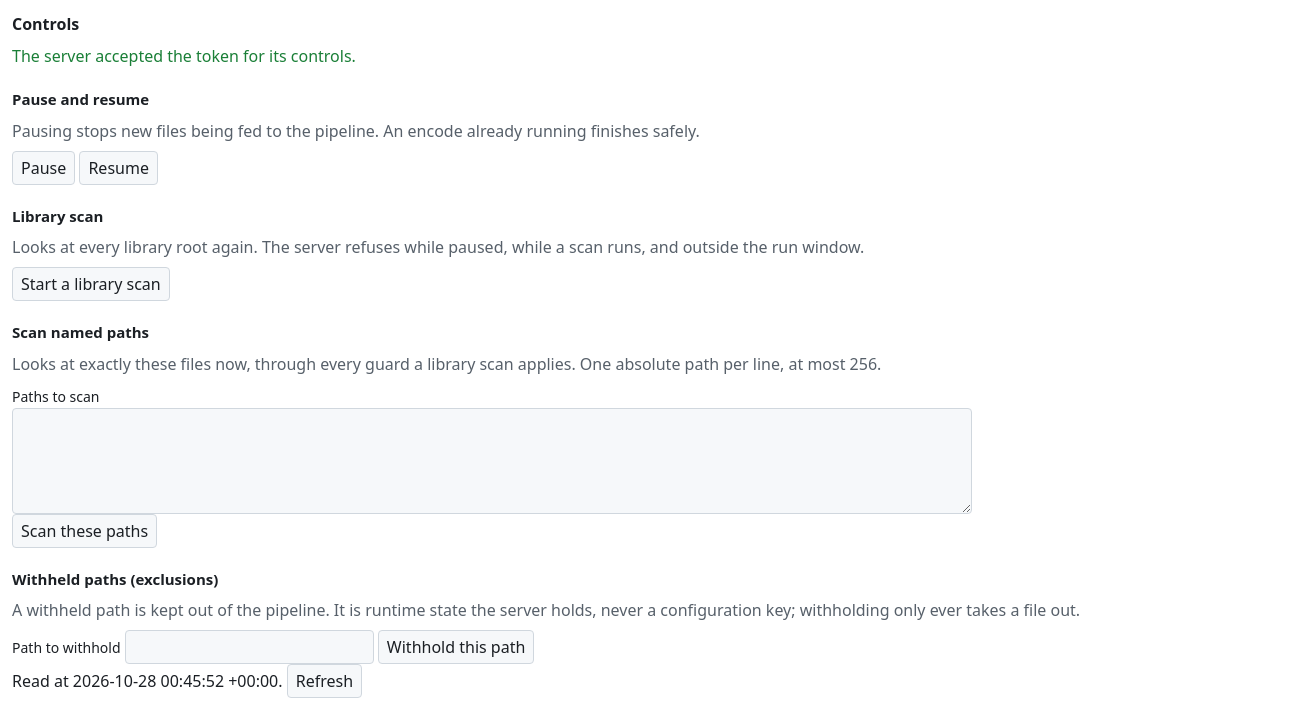
controls › controls: a 403 on a control says the controls are off on this server
The width and height of the screenshot is (1292, 708).
Expected: the text "The server accepted the token for its controls." is shown, [12,45,356,67]
What coordinates should you click on to do the following:
click the button "Resume"
I would click on:
 (119, 168)
Its box is [79,150,158,184].
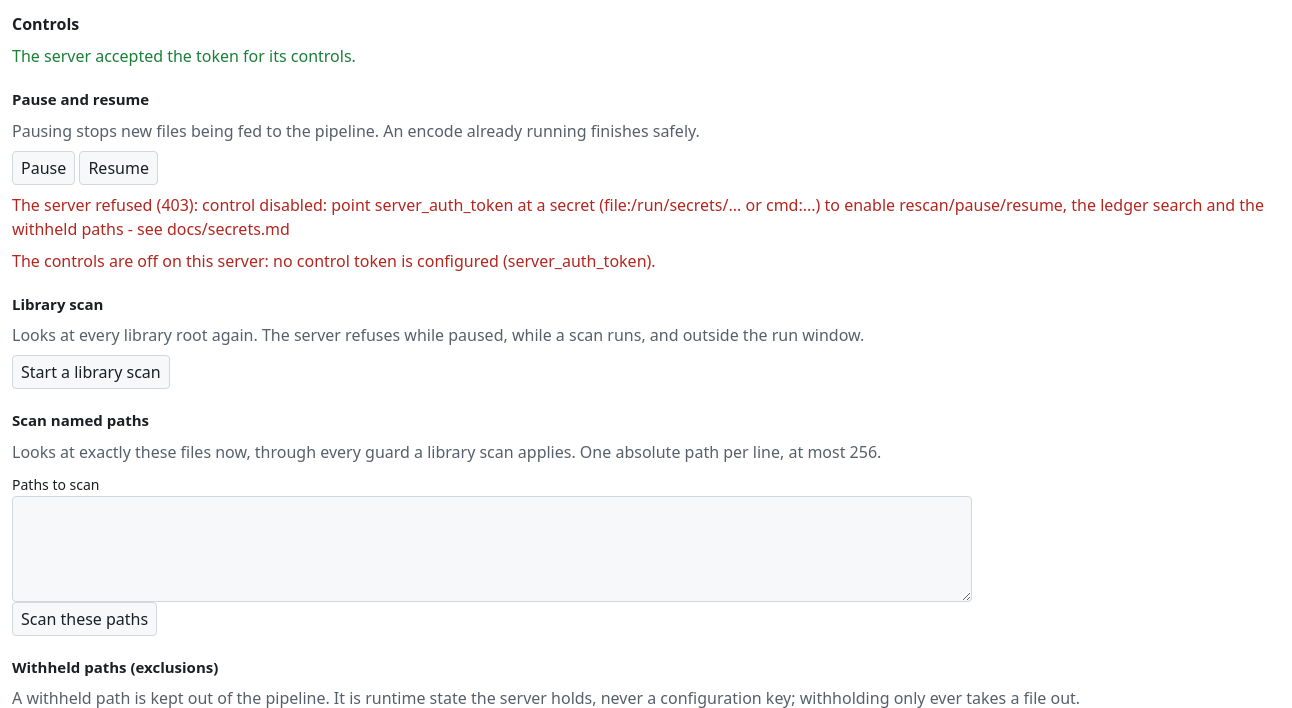
Expected: the 2nd message shows "no control token is configured (server_auth_token)", [12,250,656,272]
